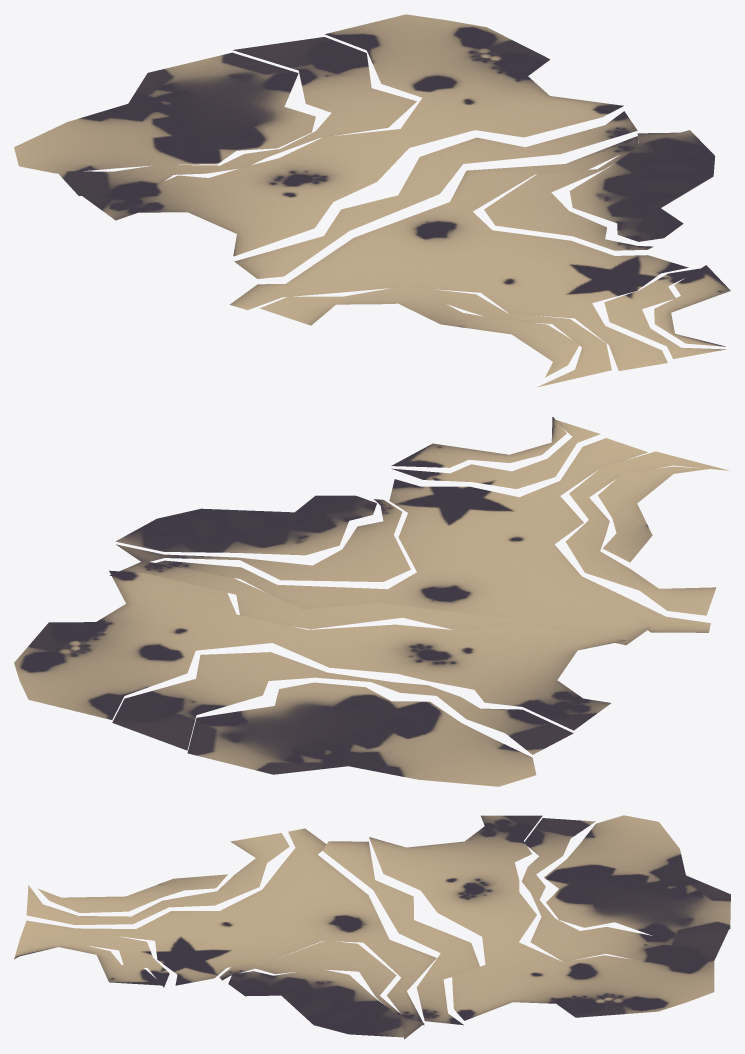
File: Ground_01.FBX
3 views of the same model, one above another, from view 1: azimuth 30°, elevation 25°; view 2: azimuth 150°, elevation 25°; view 3: azimuth 270°, elevation 25° (orthographic). The views are drawn at different scales.
Visible parts, largest first — view 1: Ground_01; view 2: Ground_01; view 3: Ground_01.
Part boxes in pixels (x1,y1,x2,y2): Ground_01: (14,14,730,387); Ground_01: (14,417,729,786); Ground_01: (14,815,730,1039).
Size of the model in its own units: 22 by 0.4 by 30.
